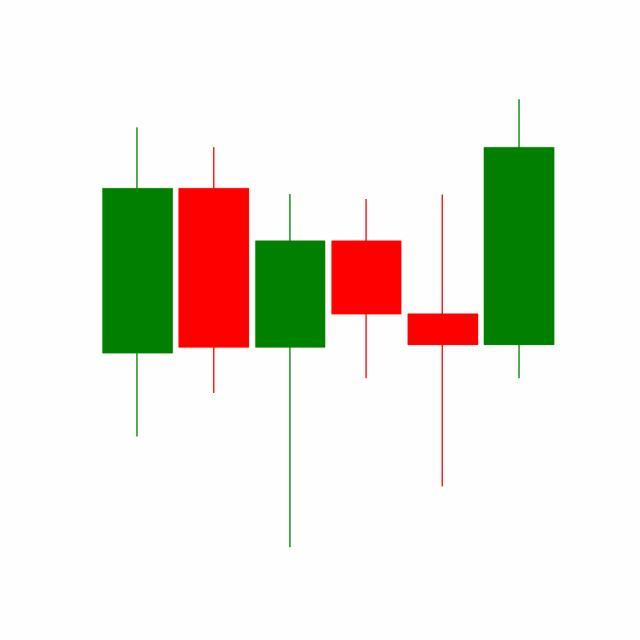Spinning Top: (404, 192, 482, 491)
